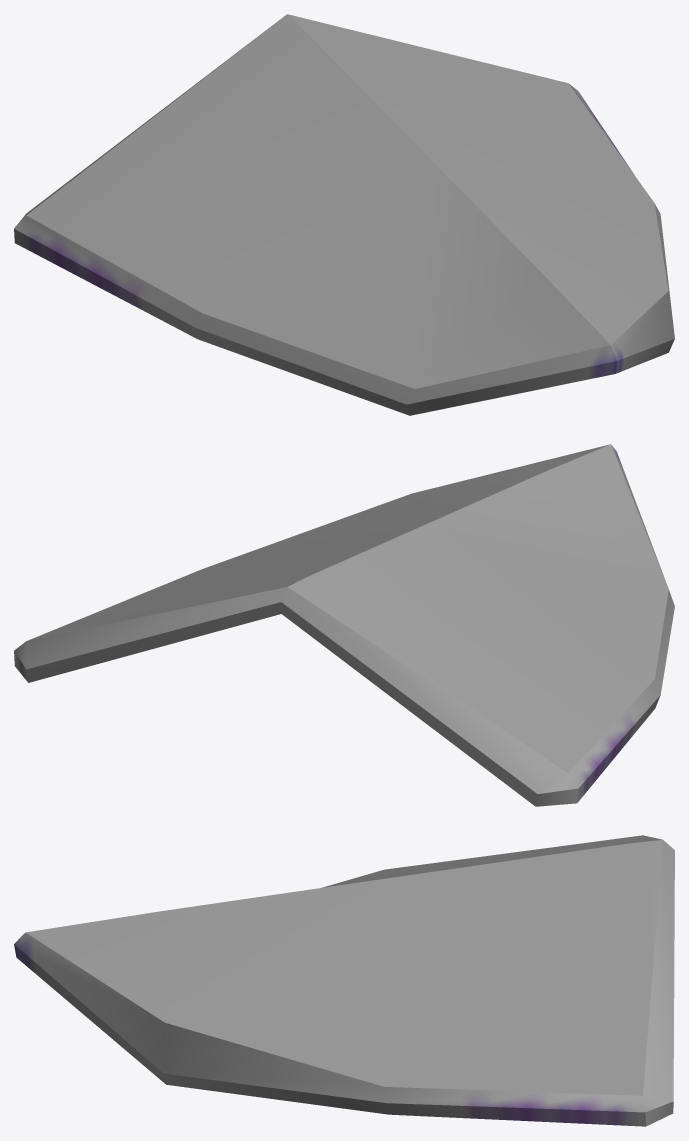
The model's file is Shoulderpad Broken 1.fbx.
3 renders of one model, top to bottom at view 1: azimuth 30°, elevation 25°; view 2: azimuth 150°, elevation 25°; view 3: azimuth 270°, elevation 25°, orthographic.
Parts seen in each view (by area): view 1: Shoulderpad_Broken_1; view 2: Shoulderpad_Broken_1; view 3: Shoulderpad_Broken_1.
Part boxes in pixels (x1,y1,x2,y2): Shoulderpad_Broken_1: (14, 14, 674, 415); Shoulderpad_Broken_1: (14, 444, 674, 806); Shoulderpad_Broken_1: (14, 835, 674, 1126).
Size of the model in its own units: 30.64 by 9.63 by 31.54.
Materials: 1 (1 with a texture image).
